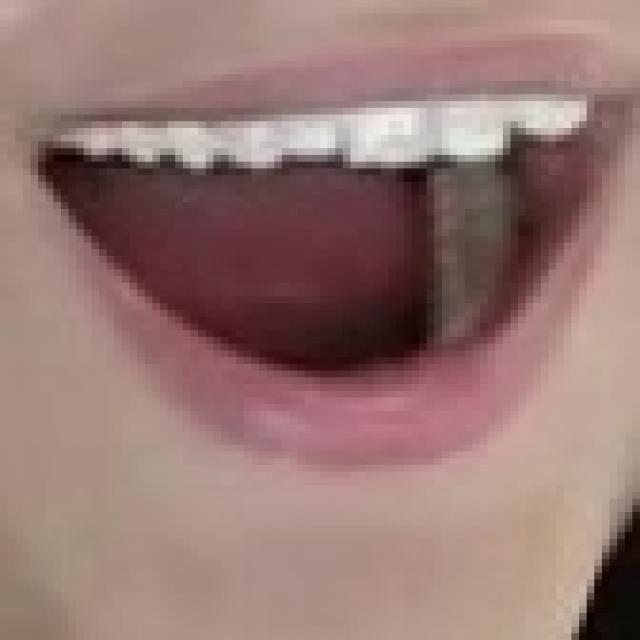open-mouth: (18, 34, 637, 468)
